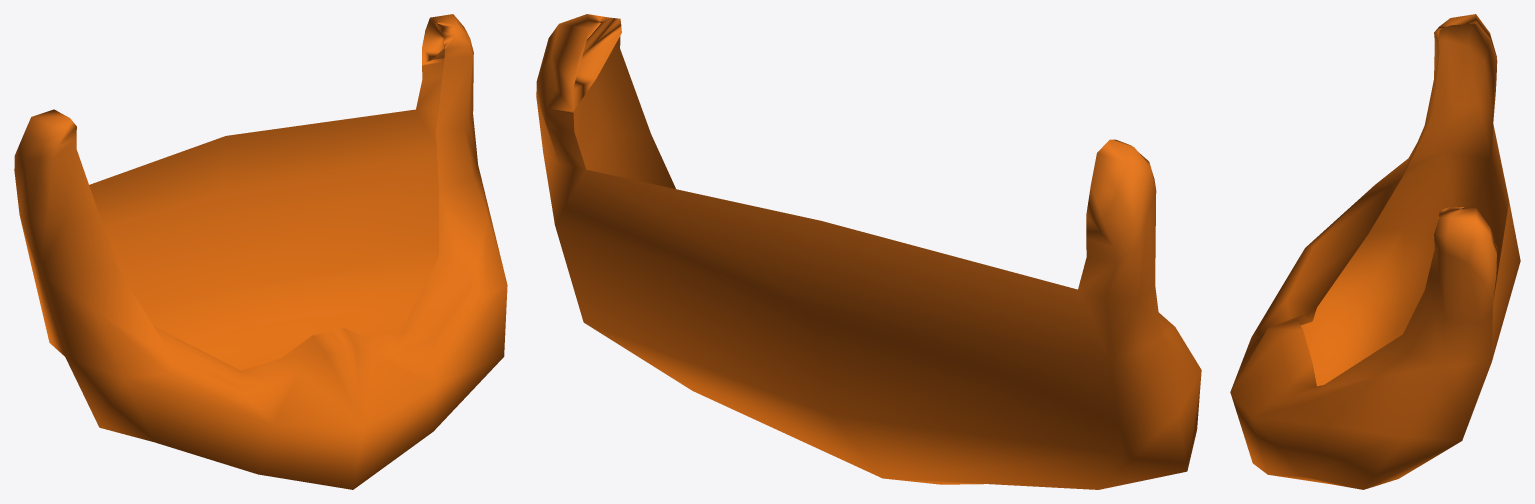
The model's file is Beard_Orange_10.fbx.
The picture shows the model from 3 angles, left to right: view 1: azimuth 30°, elevation 25°; view 2: azimuth 150°, elevation 25°; view 3: azimuth 270°, elevation 25°; orthographic projection. The views are drawn at different scales.
Visible parts, largest first — view 1: Beard_Orange_10; view 2: Beard_Orange_10; view 3: Beard_Orange_10.
Part boxes in pixels (x1,y1,x2,y2): Beard_Orange_10: (14, 14, 507, 489); Beard_Orange_10: (536, 14, 1201, 489); Beard_Orange_10: (1230, 14, 1520, 489).
Bounding box in the file's own units: 52.51 × 38.74 × 29.34.
